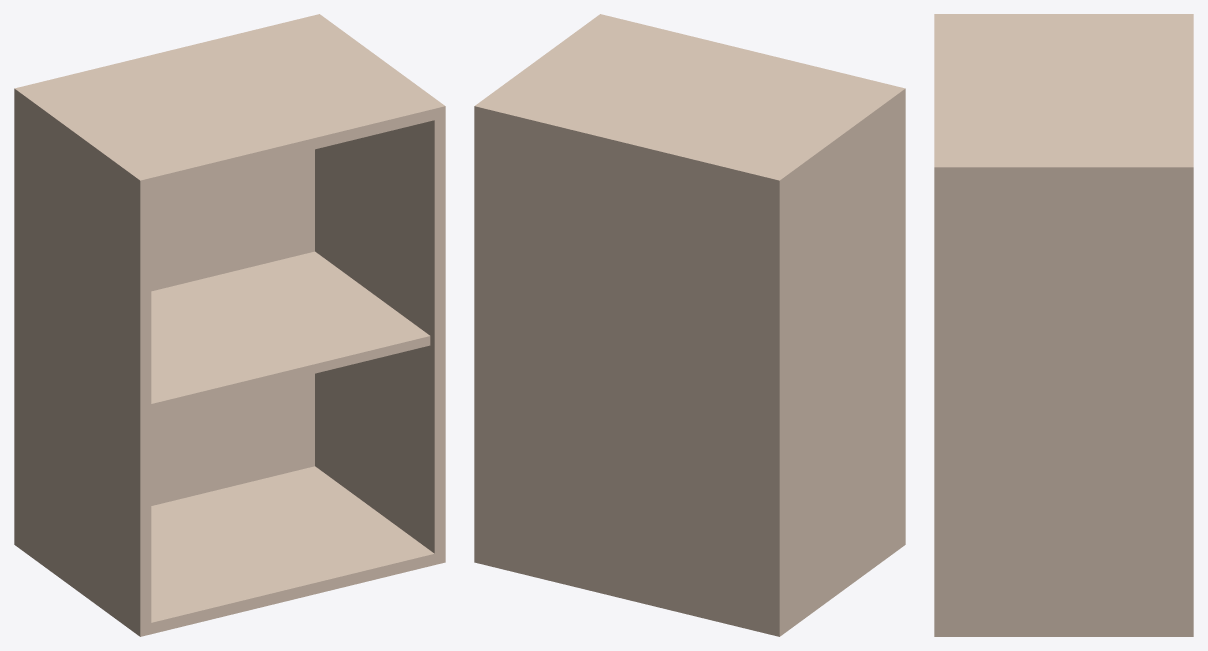
3 views of the same model, side by side, from view 1: azimuth 30°, elevation 25°; view 2: azimuth 150°, elevation 25°; view 3: azimuth 270°, elevation 25° (orthographic). The views are drawn at different scales.
Parts seen in each view (by area): view 1: Body; view 2: Body; view 3: Body.
Part boxes in pixels (bbox=[...]): Body: bbox=[14, 14, 445, 636]; Body: bbox=[474, 14, 905, 636]; Body: bbox=[934, 14, 1193, 636].
Size of the model in its own units: 0.42 by 0.6 by 0.3.
